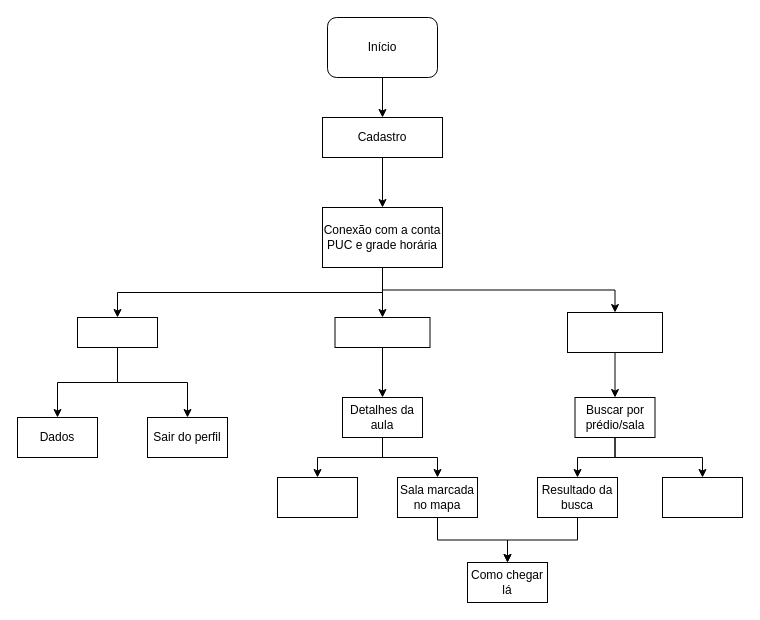
Some shapes in this 760 by 620 pixel diagram are drawn without their labels. Each missing label, with the centre of its shape:
Mapa da PUC: point 614,332
Não encontrado: point 702,497
Sala ainda a confirmar: point 317,497
Ver perfil: point 117,332
Verificar sua grade: point 382,332
